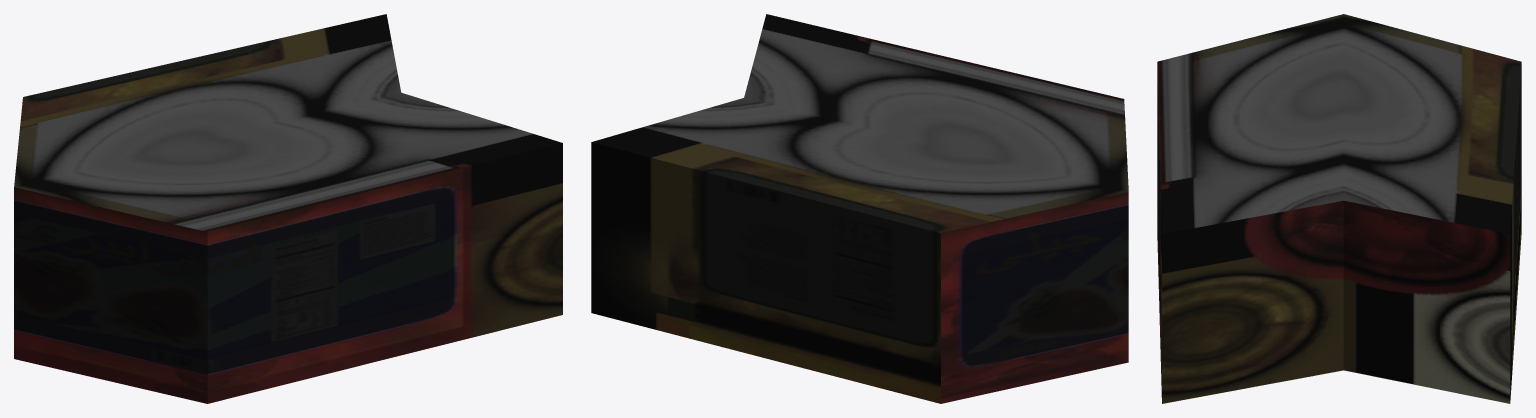
File: p6_pak_food_jar_stack_04_lod2.glb
3 views of the same model, side by side, from view 1: azimuth 30°, elevation 25°; view 2: azimuth 150°, elevation 25°; view 3: azimuth 270°, elevation 25° (orthographic).
Visible parts, largest first — view 1: surf0; view 2: surf0; view 3: surf0.
Part boxes in pixels (x1,y1,x2,y2): surf0: (14, 14, 562, 403); surf0: (591, 14, 1128, 403); surf0: (1157, 14, 1521, 403).
Bounding box in the file's own units: 22.62 × 8.13 × 15.82.
